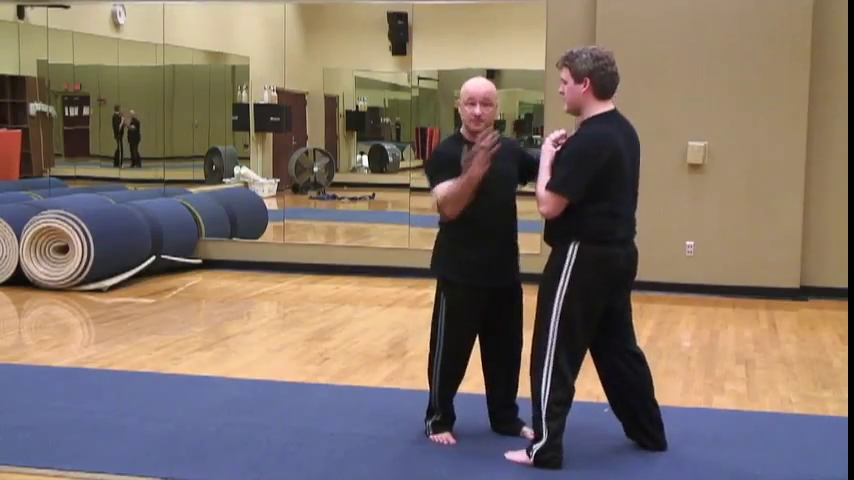person: (505, 46, 668, 470), (425, 76, 538, 446)
